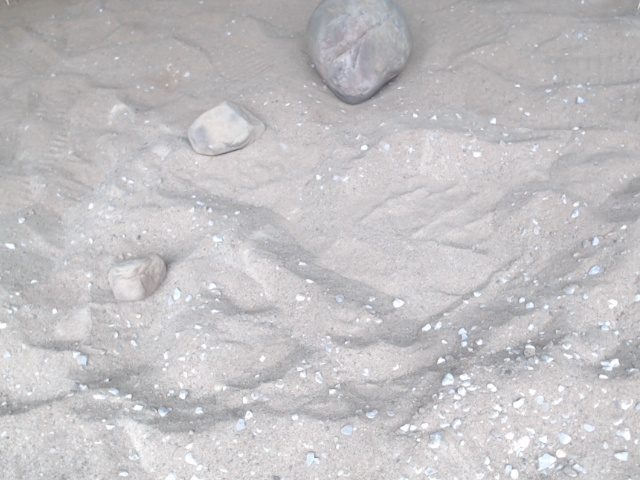rock: (299, 1, 416, 111), (183, 95, 270, 160), (105, 249, 171, 307)
